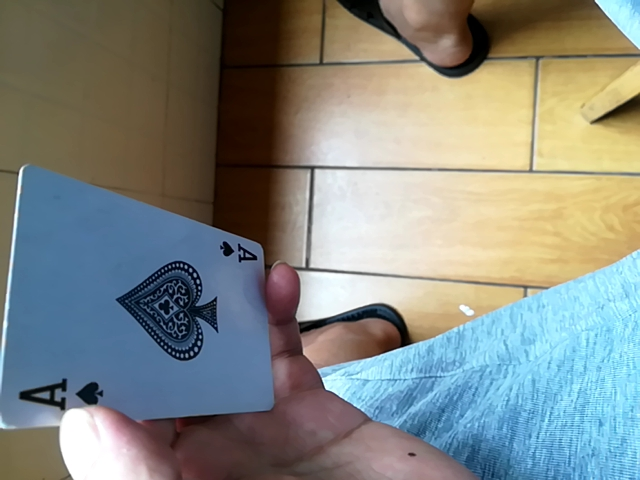ht a: (3, 161, 279, 433)
